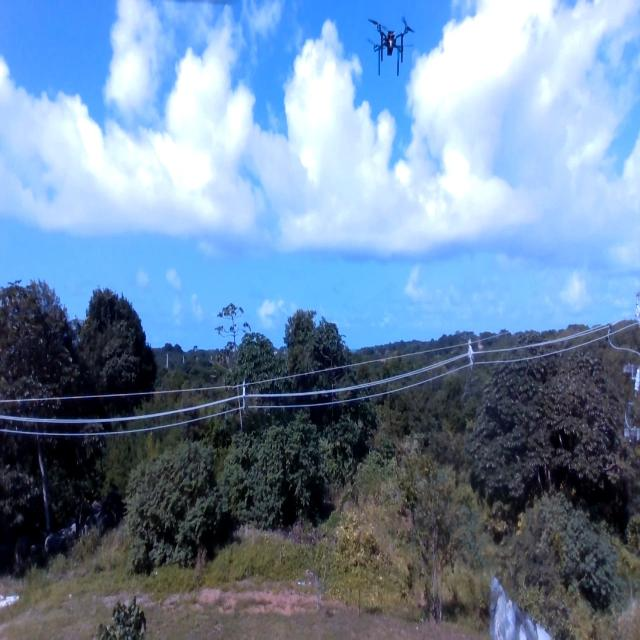-uav-: (362, 5, 419, 81)
